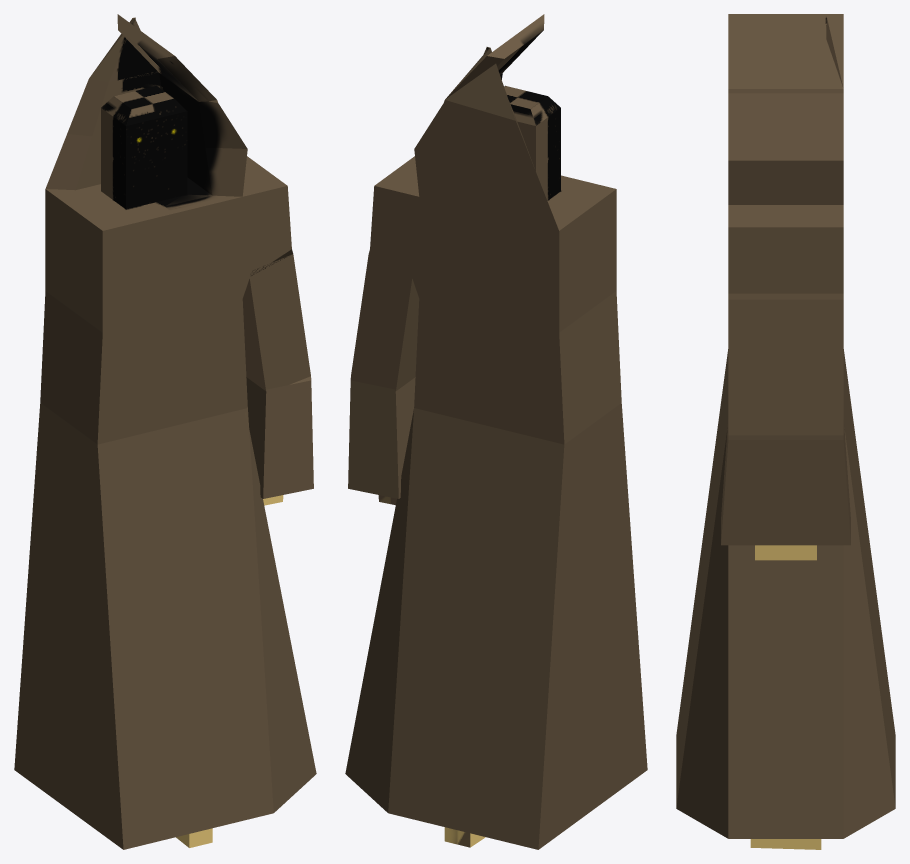
Rendered from cedric_v2.gltf.
The picture shows the model from 3 angles, left to right: view 1: azimuth 30°, elevation 25°; view 2: azimuth 150°, elevation 25°; view 3: azimuth 270°, elevation 25°; orthographic projection.
Parts seen in each view (by area): view 1: Cube; view 2: Cube; view 3: Cube.
Boxes of the visible parts, x1=… form: Cube: x1=14, y1=14, x2=316, y2=849; Cube: x1=345, y1=14, x2=647, y2=849; Cube: x1=676, y1=14, x2=895, y2=849.
Bounding box in the file's own units: 1.42 × 5.02 × 1.23.
1 material, 1 textured.
